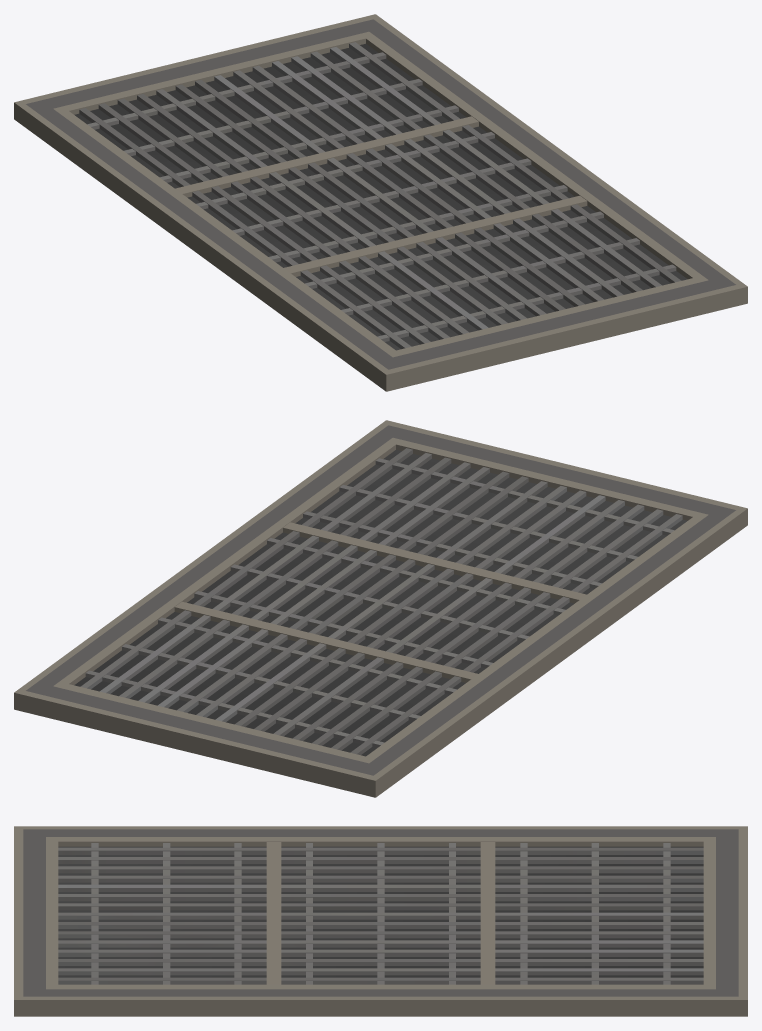
File: Grate_1_A.fbx
3 views of the same model, one above another, from view 1: azimuth 30°, elevation 25°; view 2: azimuth 150°, elevation 25°; view 3: azimuth 270°, elevation 25° (orthographic).
Parts seen in each view (by area): view 1: Grate_1_A; view 2: Grate_1_A; view 3: Grate_1_A.
Boxes of the visible parts, x1,y1,x2,y2 form: Grate_1_A: [14, 14, 747, 391]; Grate_1_A: [14, 420, 747, 797]; Grate_1_A: [14, 826, 747, 1016].
Size of the model in its own units: 81.5 by 3.65 by 145.
